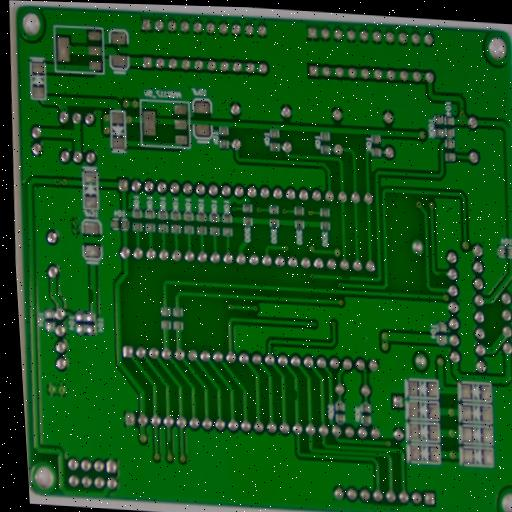mouse_bite: (86, 285, 96, 307), (289, 386, 301, 403), (435, 268, 448, 280), (165, 436, 174, 453), (338, 272, 352, 282)
